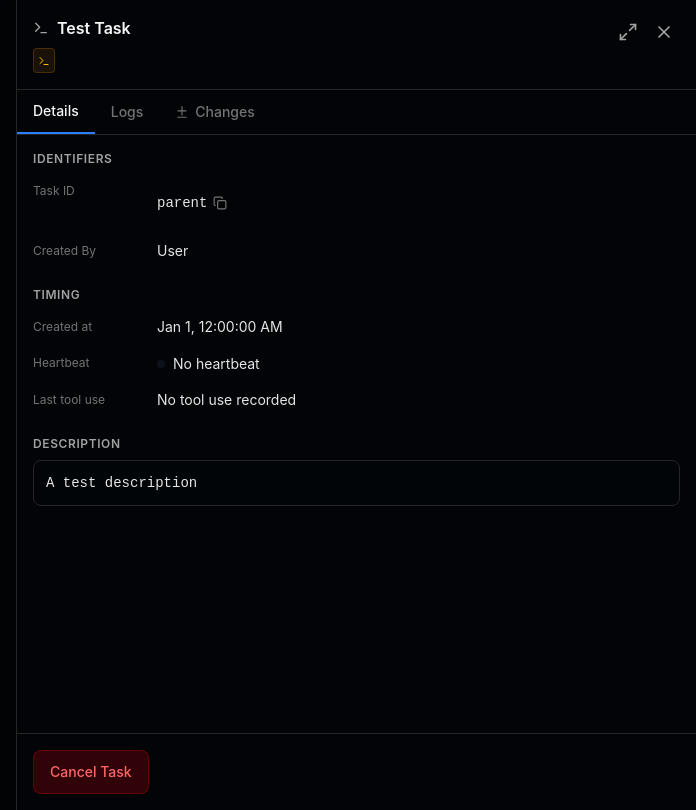
it: TaskDetailDrawer › cancel confirmation warns about stranded waiting dependents (blast radius)
Click the button "Cancel Task" at (91, 772), box [33, 750, 149, 794]
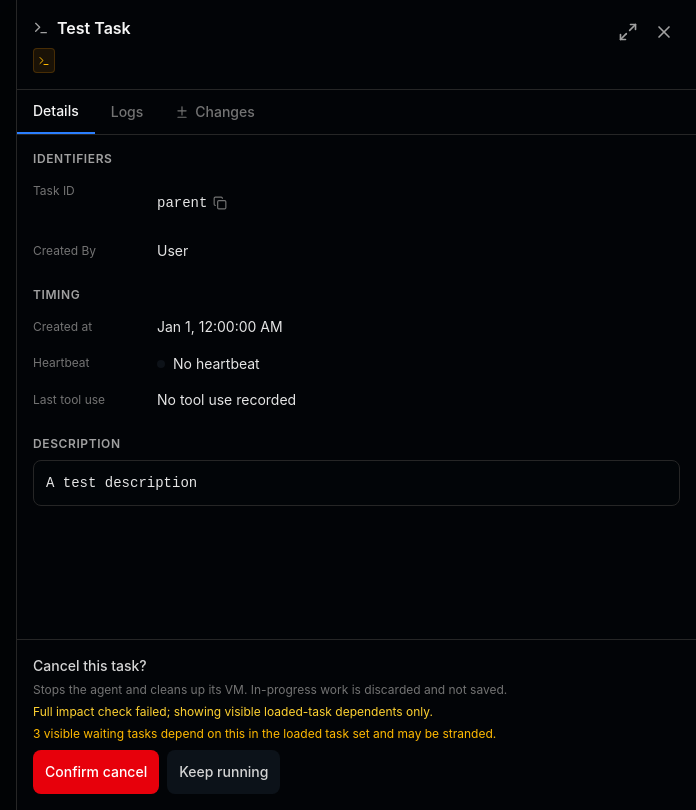
Check: the text with test id "cancel-impact-fallback" shows "Full impact check failed", box [33, 704, 433, 719]
Check: the text with test id "cancel-blast-radius" shows "3 visible waiting tasks depend on this in the loaded task set", box [33, 726, 496, 741]
